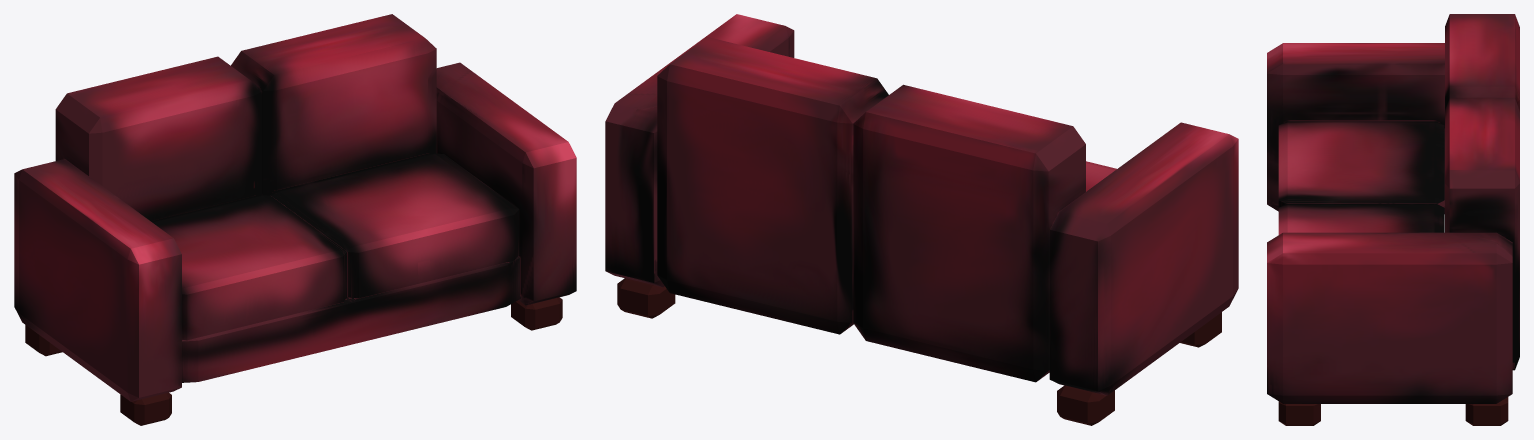
The model's file is sofa horror.fbx.
3 views of the same model, side by side, from view 1: azimuth 30°, elevation 25°; view 2: azimuth 150°, elevation 25°; view 3: azimuth 270°, elevation 25° (orthographic). The views are drawn at different scales.
Parts seen in each view (by area): view 1: Cube.006, Cube.008; view 2: Cube.006, Cube.008; view 3: Cube.006, Cube.008.
Part boxes in pixels (bbox=[...]): Cube.006: bbox=[14, 14, 576, 401]; Cube.008: bbox=[25, 297, 562, 425]; Cube.006: bbox=[605, 14, 1238, 395]; Cube.008: bbox=[617, 278, 1221, 425]; Cube.006: bbox=[1267, 14, 1519, 403]; Cube.008: bbox=[1278, 397, 1508, 425].
Bounding box in the file's own units: 304 × 310 × 607.
2 materials, 1 textured.
